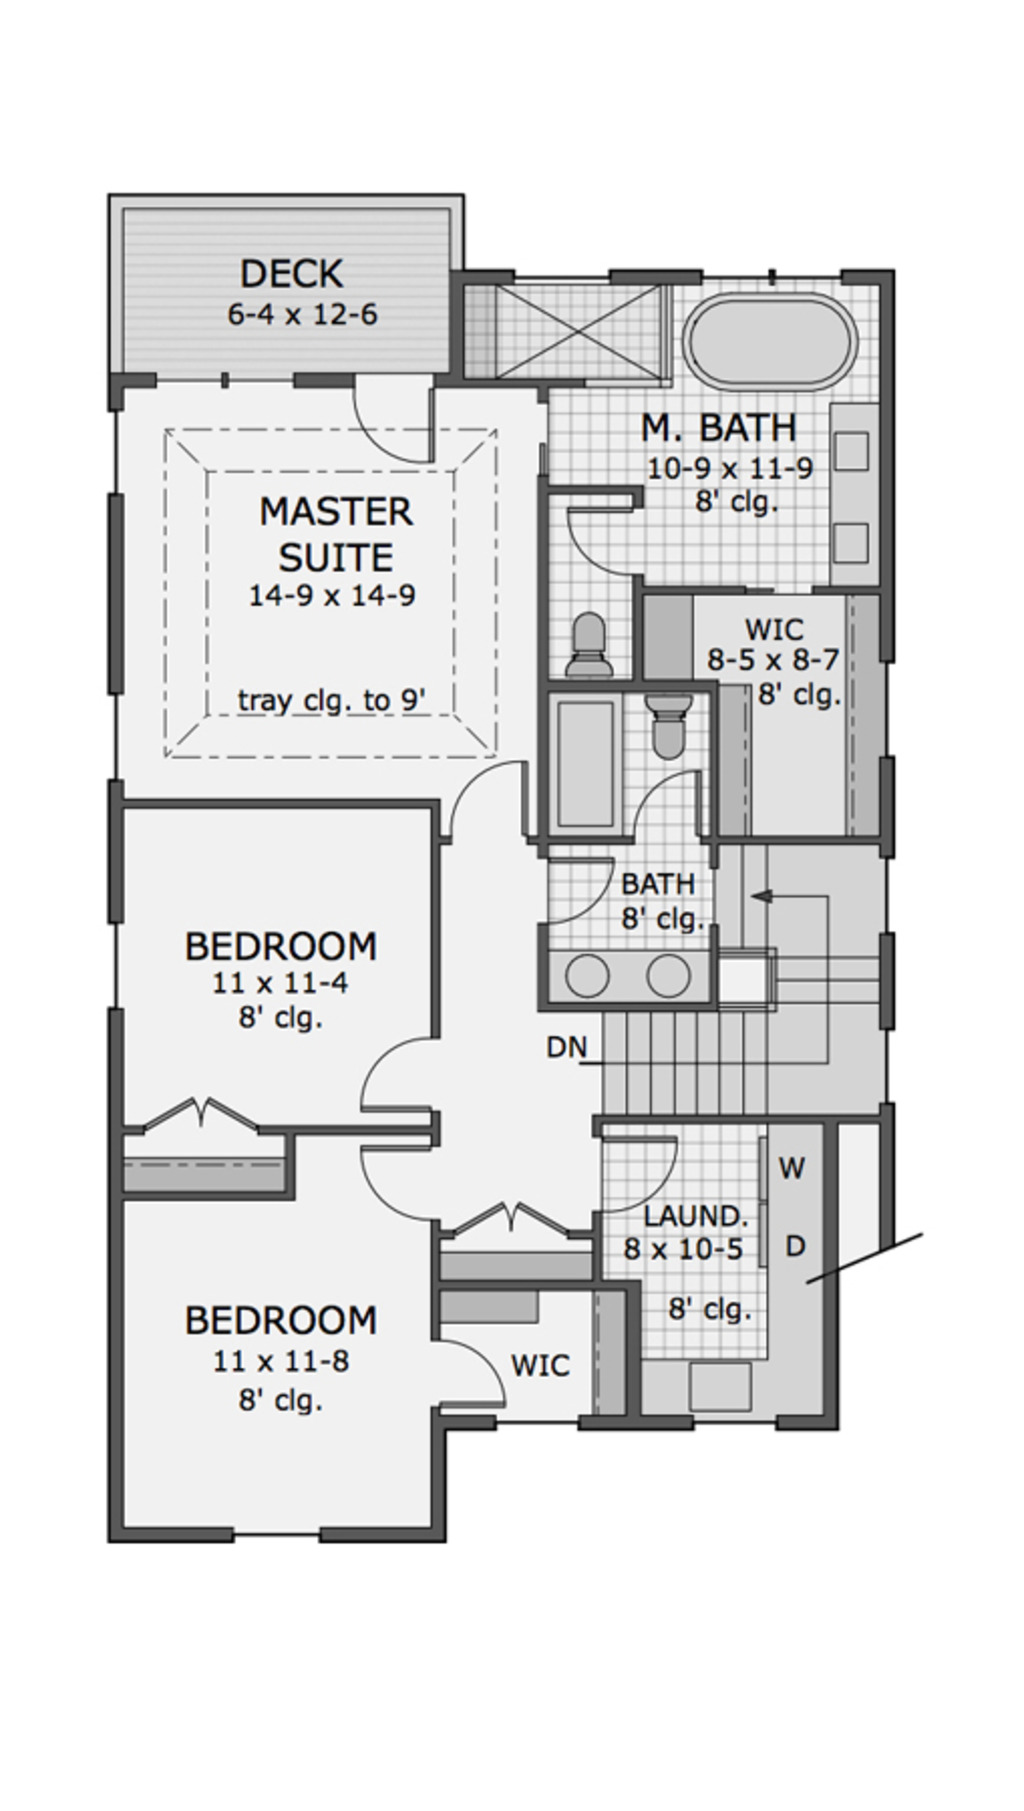door: (413, 1189, 596, 1261), (353, 366, 462, 478), (408, 1315, 516, 1425), (333, 1129, 448, 1231), (439, 746, 542, 850), (552, 493, 653, 592), (353, 1041, 468, 1126), (122, 1095, 282, 1152), (582, 1118, 682, 1209), (547, 835, 636, 929), (616, 772, 702, 850)
large_sink: (545, 598, 630, 692), (645, 695, 696, 766)
small_sink: (808, 396, 908, 595)
stairs: (591, 852, 902, 1124)
tub: (688, 286, 885, 396)
window: (90, 396, 148, 495), (96, 682, 136, 801), (208, 1524, 345, 1555), (93, 909, 129, 1015)
